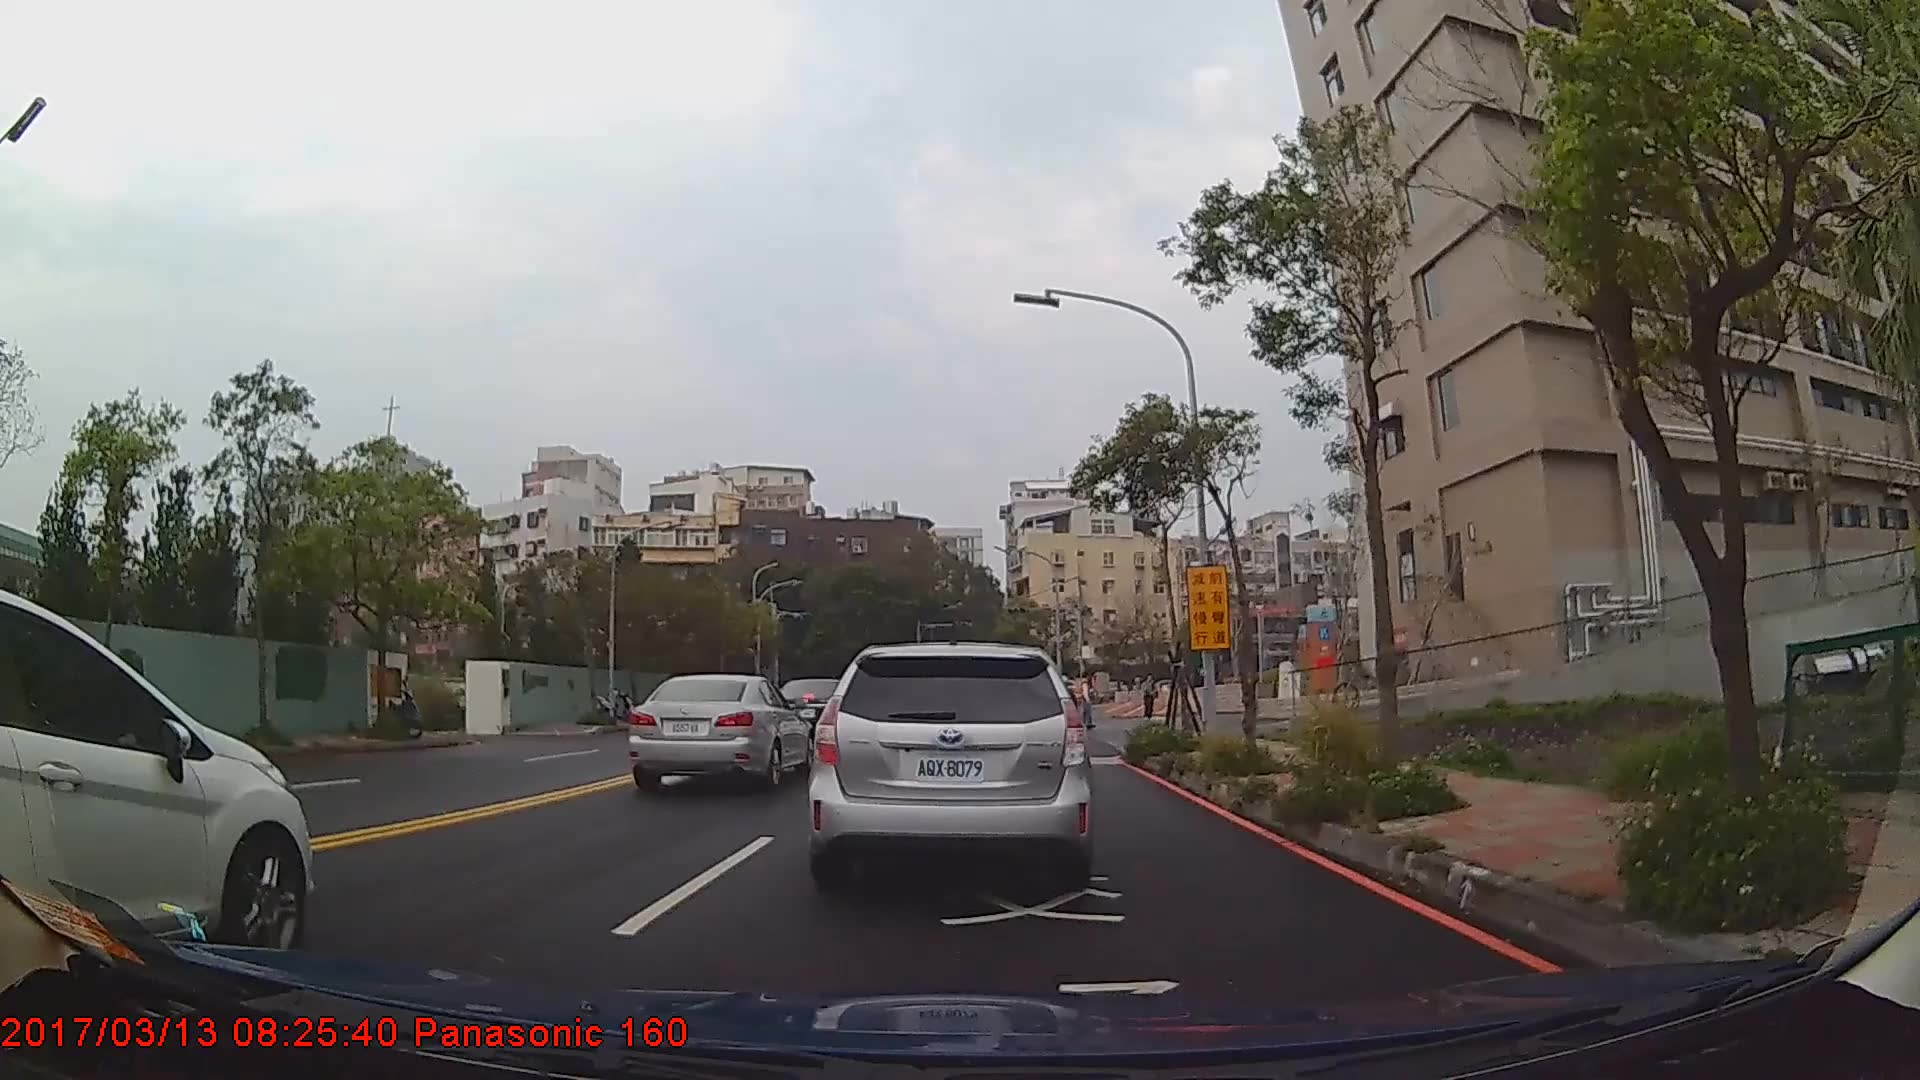pedestrian: (1078, 669, 1099, 730)
vehicle: (0, 585, 312, 963), (809, 637, 1092, 886), (626, 672, 814, 787)
